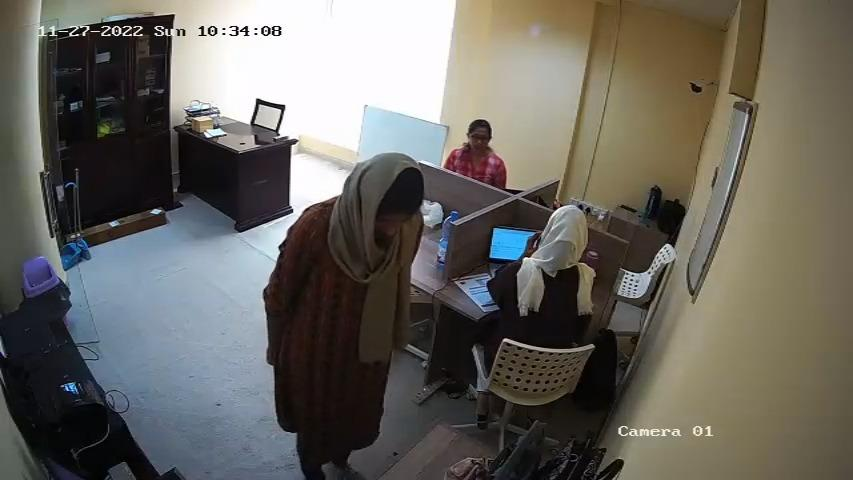no_apron: (288, 241, 392, 423)
